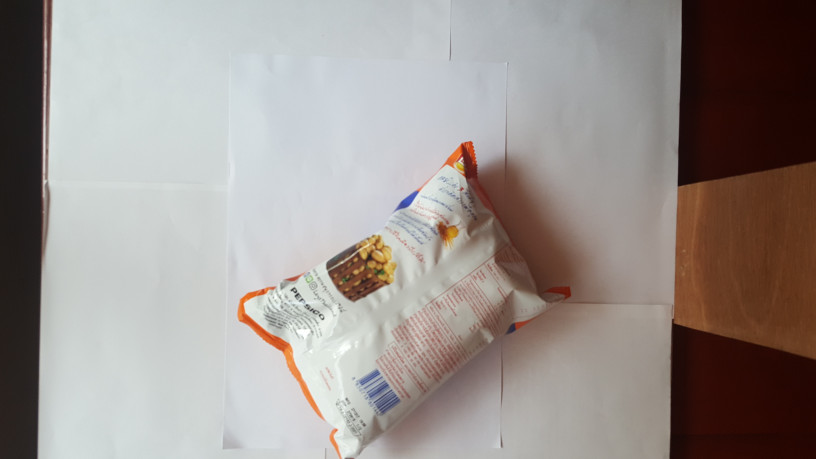lays-bbq: (227, 136, 575, 459)
